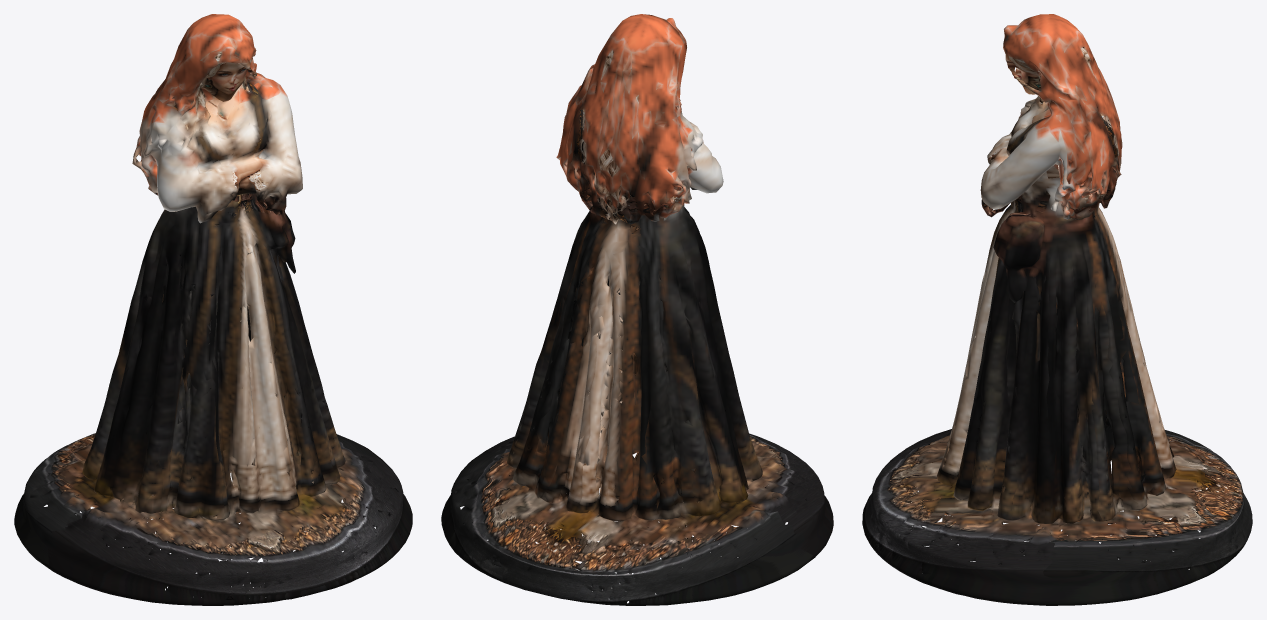
Rendered from moca_ruiva.glb.
3 views of the same model, side by side, from view 1: azimuth 30°, elevation 25°; view 2: azimuth 150°, elevation 25°; view 3: azimuth 270°, elevation 25° (orthographic).
Visible parts, largest first — view 1: tmposvopeh6.ply; view 2: tmposvopeh6.ply; view 3: tmposvopeh6.ply.
Boxes of the visible parts, box(x1,y1,x2,y2) form: tmposvopeh6.ply: box(14, 14, 412, 605); tmposvopeh6.ply: box(441, 14, 833, 605); tmposvopeh6.ply: box(862, 14, 1252, 605).
Size of the model in its own units: 1.39 by 1.96 by 1.37.
Materials: 5 (5 with a texture image).
